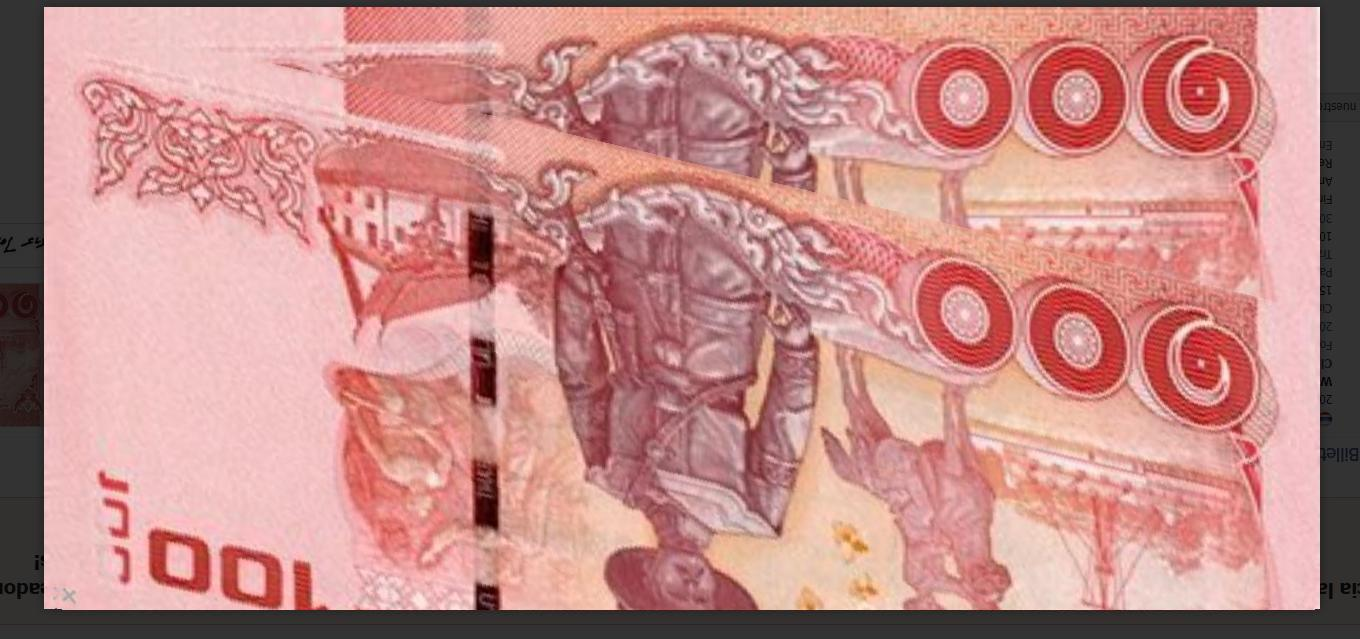100BahtTai: (46, 11, 1315, 611)
